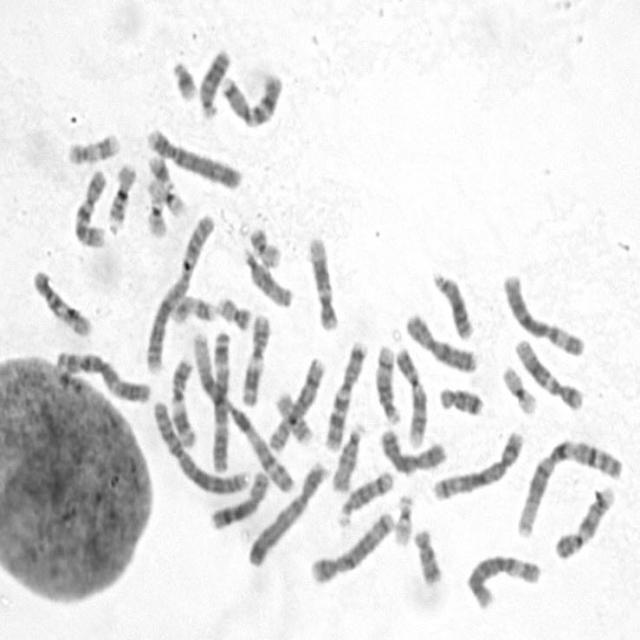A1: (188, 324, 297, 494), (513, 434, 625, 539)
A2: (140, 208, 218, 376), (149, 394, 253, 496)
A3: (51, 344, 152, 406), (208, 327, 233, 472)
B4: (244, 454, 330, 568), (144, 122, 243, 192)
B5: (428, 425, 526, 502), (306, 506, 396, 586)
C10: (28, 263, 94, 339), (69, 163, 109, 250)
C11: (237, 307, 273, 408), (166, 353, 198, 449)
C12: (511, 332, 585, 412), (305, 231, 341, 332)
C6: (500, 268, 587, 358), (462, 547, 543, 611)
C7: (322, 335, 370, 453), (219, 67, 284, 128)
C8: (263, 352, 326, 452), (206, 464, 271, 532)
C9: (551, 480, 617, 561), (392, 342, 429, 448)
D13: (428, 266, 476, 341), (196, 42, 234, 120)
D14: (333, 466, 394, 527), (370, 340, 402, 425)
D15: (239, 242, 295, 309), (328, 419, 366, 493)
E16: (104, 156, 138, 234), (274, 388, 315, 446)
E17: (62, 126, 122, 167), (167, 288, 218, 326)
E18: (410, 523, 444, 586), (435, 380, 486, 419)
F19: (498, 359, 539, 416), (143, 173, 188, 218)
F20: (245, 222, 284, 270), (213, 290, 253, 331)
G21: (168, 54, 200, 102), (144, 148, 175, 190)
G22: (390, 488, 416, 548), (143, 188, 170, 239)
X: (402, 307, 481, 375), (376, 423, 448, 475)
